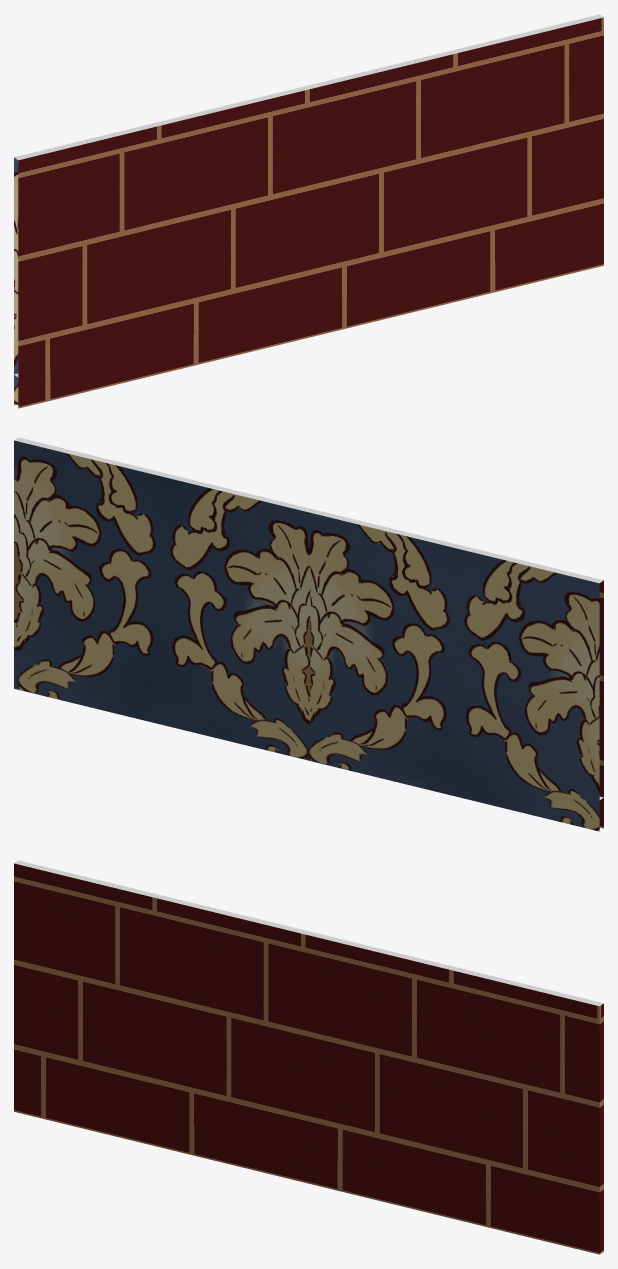
Rendered from WallDoor.fbx.
3 views of the same model, one above another, from view 1: azimuth 30°, elevation 25°; view 2: azimuth 150°, elevation 25°; view 3: azimuth 330°, elevation 25° (orthographic).
Visible parts, largest first — view 1: wall_door, wall_door_opt; view 2: wall_door, wall_door_opt; view 3: wall_door, wall_door_opt.
Boxes of the visible parts, x1,y1,x2,y2 form: wall_door: (14,14,603,408); wall_door_opt: (218,99,396,359); wall_door: (14,437,603,831); wall_door_opt: (221,522,399,782); wall_door: (14,860,603,1254); wall_door_opt: (214,943,391,1203).
Size of the model in its own units: 1481 by 600 by 18.75.
